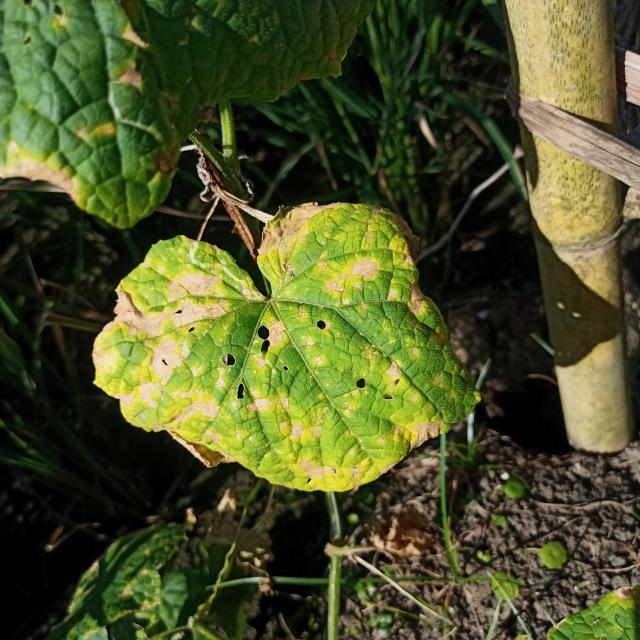disease_cucumber: (95, 200, 468, 489)
